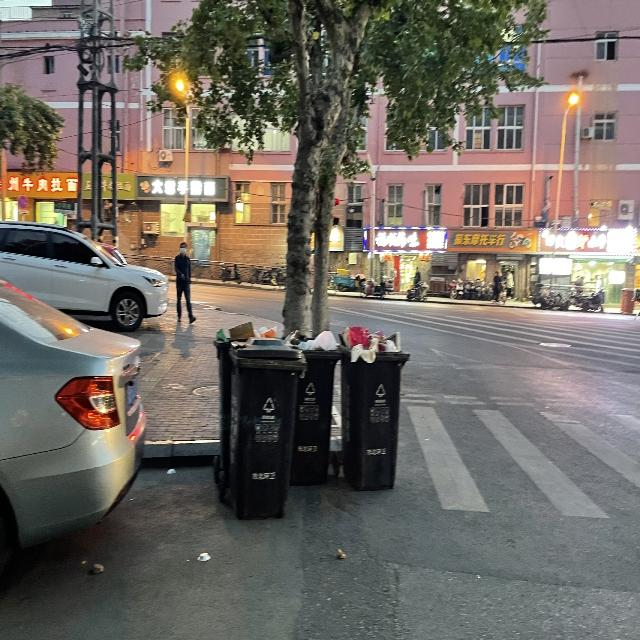garbage_bin: (227, 336, 306, 519)
overflow: (338, 324, 409, 490), (281, 328, 340, 485)
